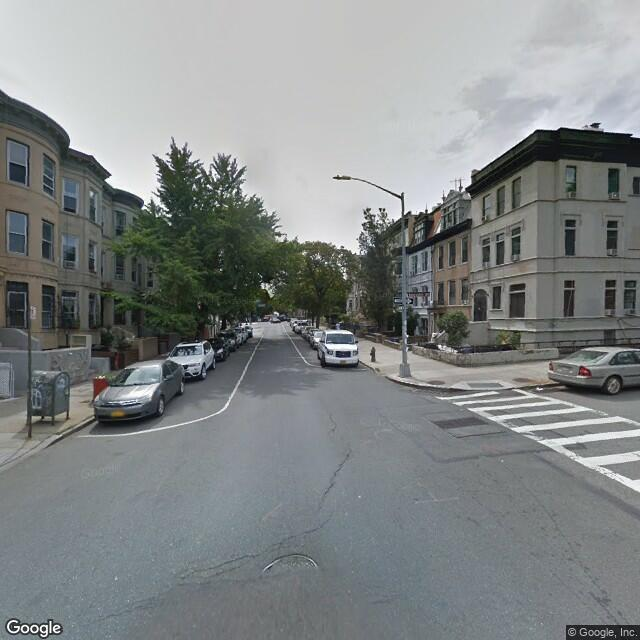litter: (530, 382, 548, 395)
